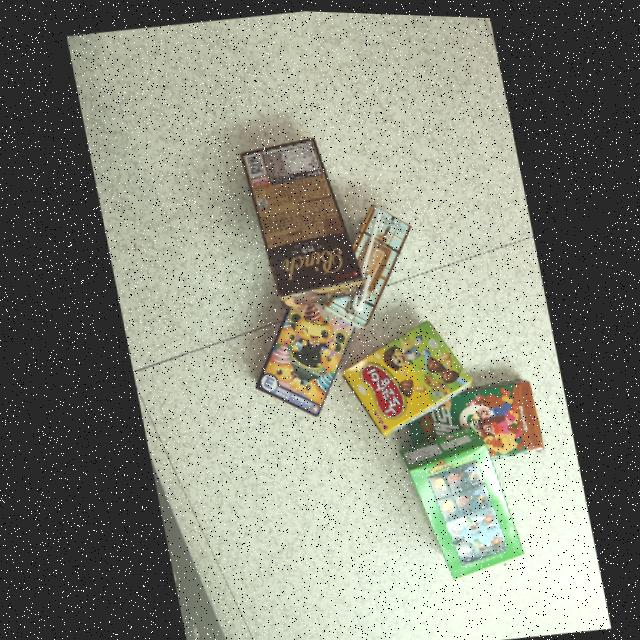box: (239, 134, 360, 304), (395, 424, 518, 576), (338, 317, 468, 433), (252, 283, 357, 413), (400, 375, 540, 469), (322, 201, 409, 325)
